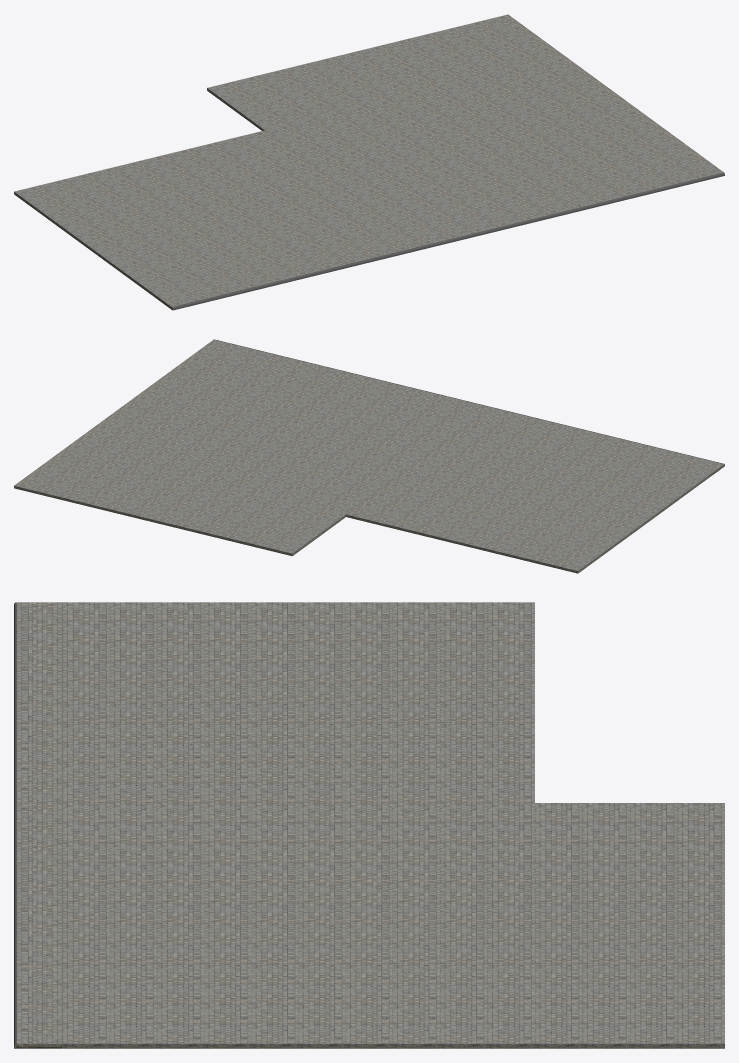
File: Area1Pavement2.fbx
The picture shows the model from 3 angles, top to bottom: view 1: azimuth 30°, elevation 25°; view 2: azimuth 150°, elevation 25°; view 3: azimuth 270°, elevation 25°; orthographic projection. The views are drawn at different scales.
Parts seen in each view (by area): view 1: Area1Pavement2; view 2: Area1Pavement2; view 3: Area1Pavement2.
Part boxes in pixels (<box>): Area1Pavement2: <box>14,14,724,310</box>; Area1Pavement2: <box>14,339,724,573</box>; Area1Pavement2: <box>14,602,724,1048</box>.
Bounding box in the file's own units: 2816 × 13.59 × 1915.
